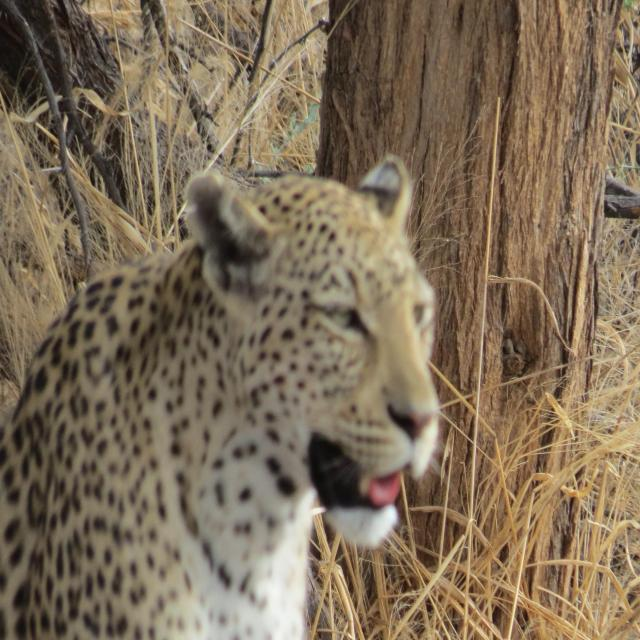Leopard: (0, 141, 453, 640)
